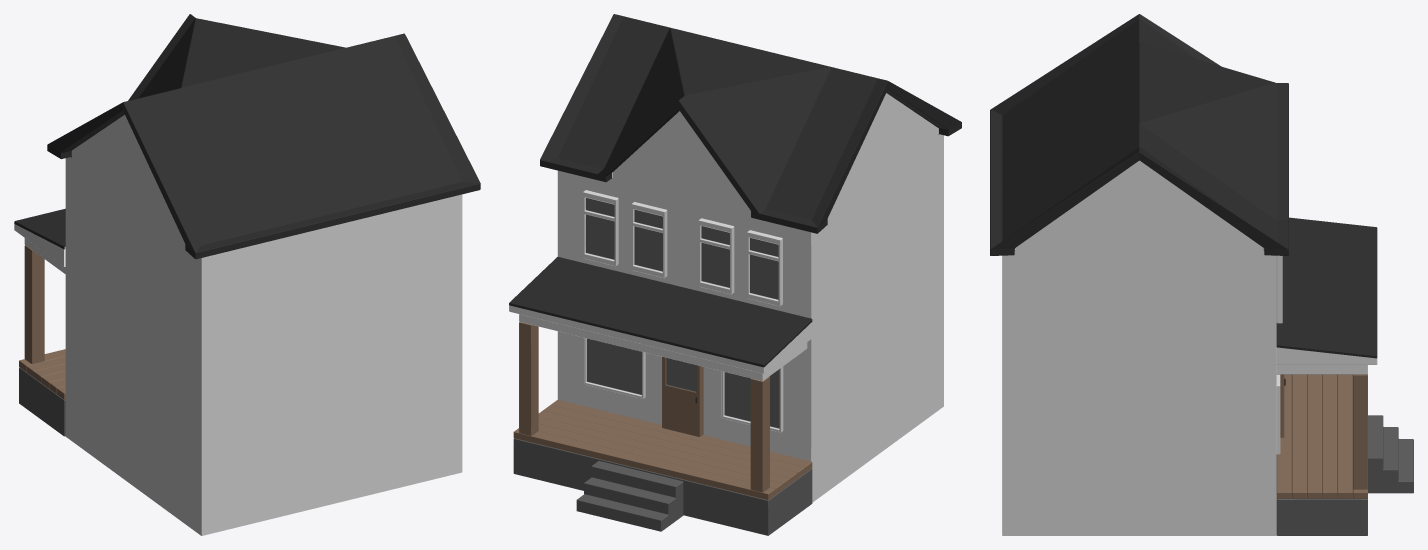
File: housev1.fbx
3 views of the same model, side by side, from view 1: azimuth 30°, elevation 25°; view 2: azimuth 150°, elevation 25°; view 3: azimuth 270°, elevation 25° (orthographic). The views are drawn at different scales.
Parts seen in each view (by area): view 1: House_WV.001; view 2: House_WV.001; view 3: House_WV.001.
Part boxes in pixels (x1,y1,x2,y2): House_WV.001: (14, 14, 480, 535); House_WV.001: (509, 14, 961, 535); House_WV.001: (990, 14, 1413, 535).
Bounding box in the file's own units: 1089 × 1410 × 1390.
